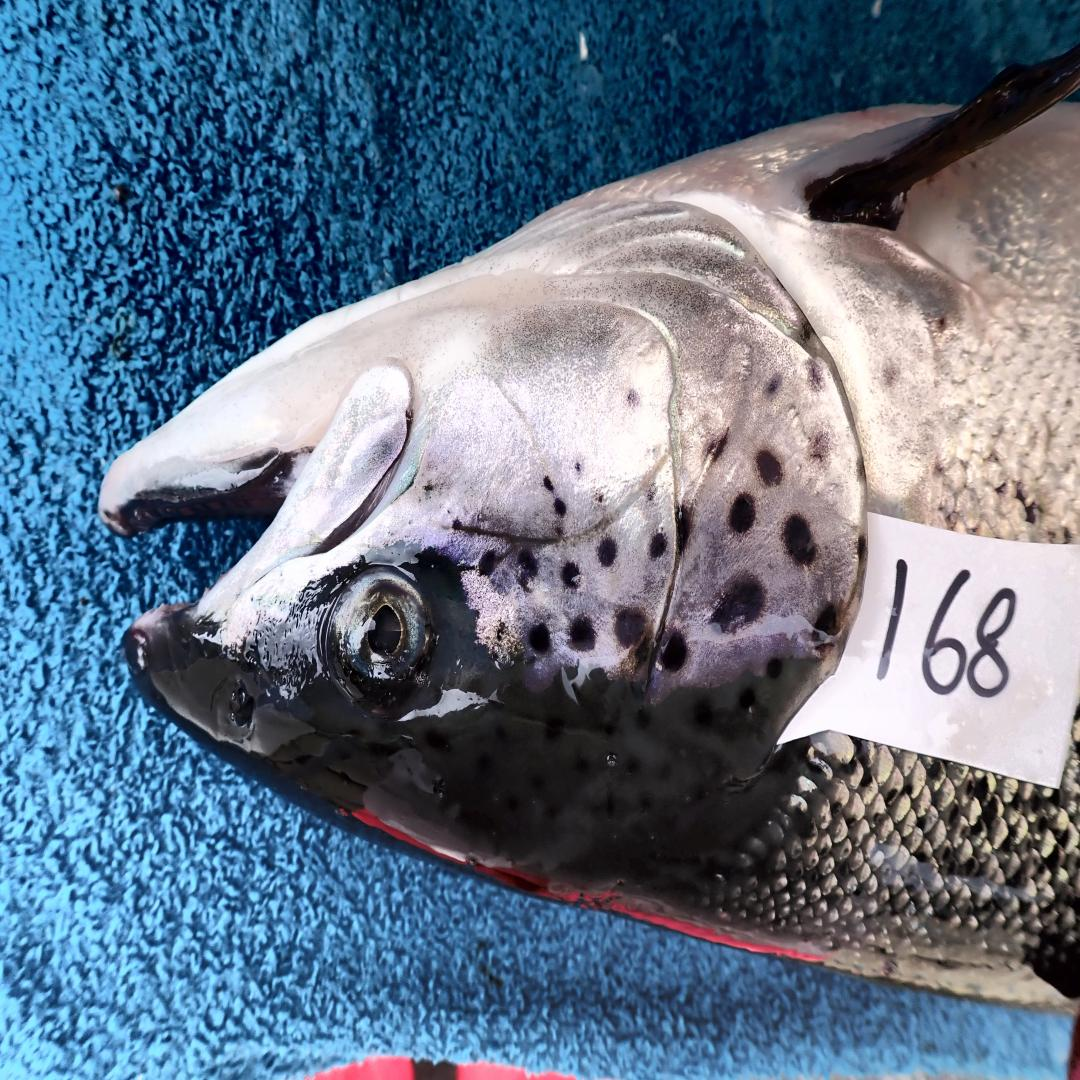spot: (711, 577, 766, 633), (783, 515, 816, 565), (660, 630, 688, 672), (616, 608, 645, 647), (755, 450, 783, 487), (631, 627, 652, 675), (730, 492, 755, 532), (517, 548, 538, 591), (705, 428, 730, 464), (570, 616, 595, 650), (808, 430, 831, 464), (677, 503, 692, 554), (814, 605, 837, 636), (529, 624, 551, 652), (597, 537, 618, 565), (808, 360, 825, 391), (561, 562, 580, 588), (479, 551, 498, 577), (650, 532, 667, 560), (766, 374, 783, 397), (767, 658, 782, 678), (626, 388, 639, 408), (858, 535, 867, 562), (555, 498, 567, 518), (645, 484, 658, 501), (451, 518, 464, 532), (497, 622, 507, 640), (424, 484, 434, 501), (544, 475, 553, 492), (596, 494, 603, 503), (575, 462, 580, 473)
